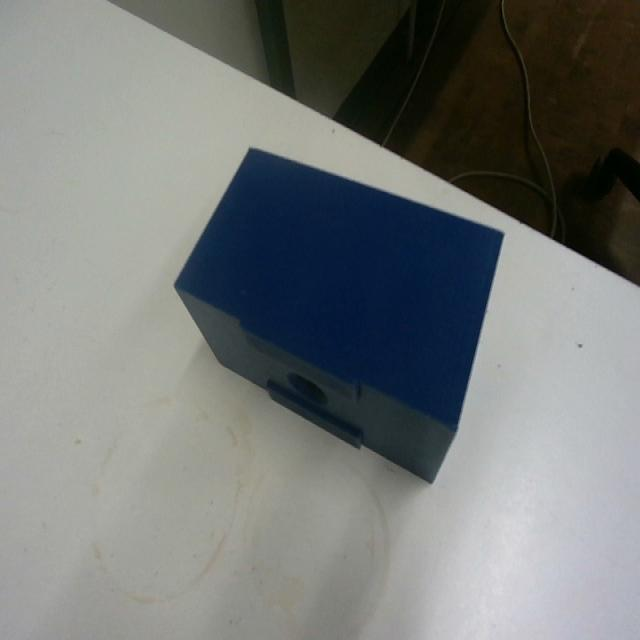Blue Cuboid: (172, 143, 505, 485)
